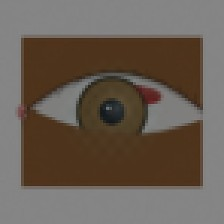hemorrhage_spot: (96, 66, 172, 127)
